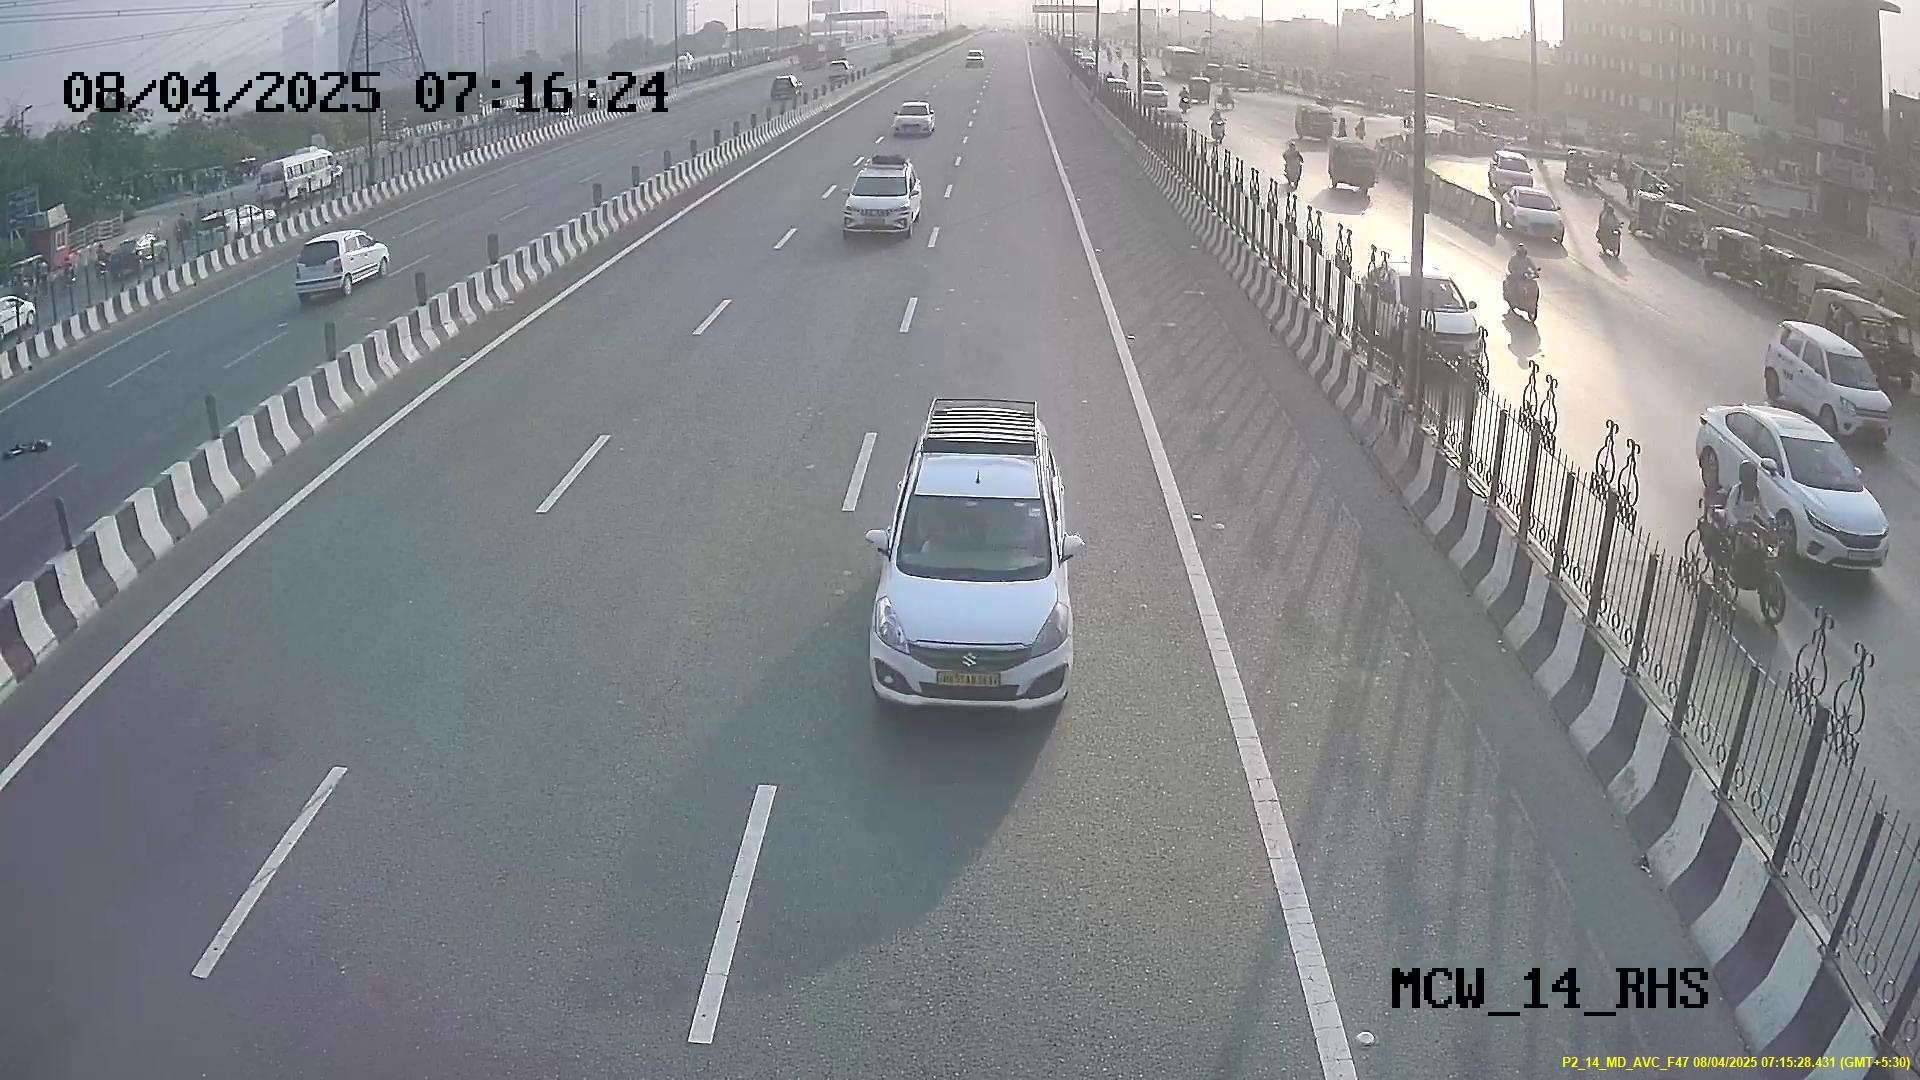car: (865, 456, 1076, 713)
